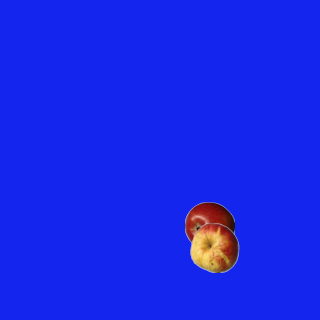Apple Braeburn: (184, 201, 234, 251)
Apple Red Yellow 1: (189, 222, 239, 272)
